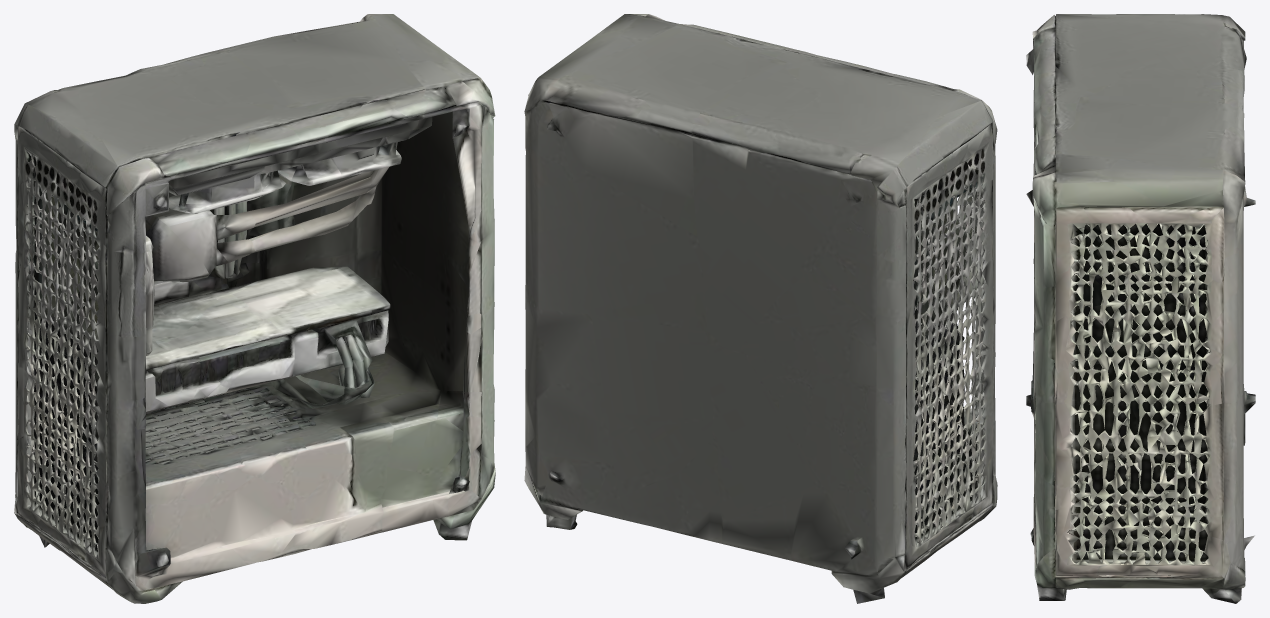
The model's file is computer-case-web-source.glb.
3 views of the same model, side by side, from view 1: azimuth 30°, elevation 25°; view 2: azimuth 150°, elevation 25°; view 3: azimuth 270°, elevation 25° (orthographic). The views are drawn at different scales.
Visible parts, largest first — view 1: tripo_node_b7136f95-1470-4d6e-951a-3dd04a43f271; view 2: tripo_node_b7136f95-1470-4d6e-951a-3dd04a43f271; view 3: tripo_node_b7136f95-1470-4d6e-951a-3dd04a43f271.
Part boxes in pixels (x1,y1,x2,y2): tripo_node_b7136f95-1470-4d6e-951a-3dd04a43f271: (14, 14, 495, 603); tripo_node_b7136f95-1470-4d6e-951a-3dd04a43f271: (524, 14, 997, 603); tripo_node_b7136f95-1470-4d6e-951a-3dd04a43f271: (1026, 14, 1255, 603).
Size of the model in its own units: 0.8741 by 0.9789 by 0.4714.
1 material, 1 textured.
